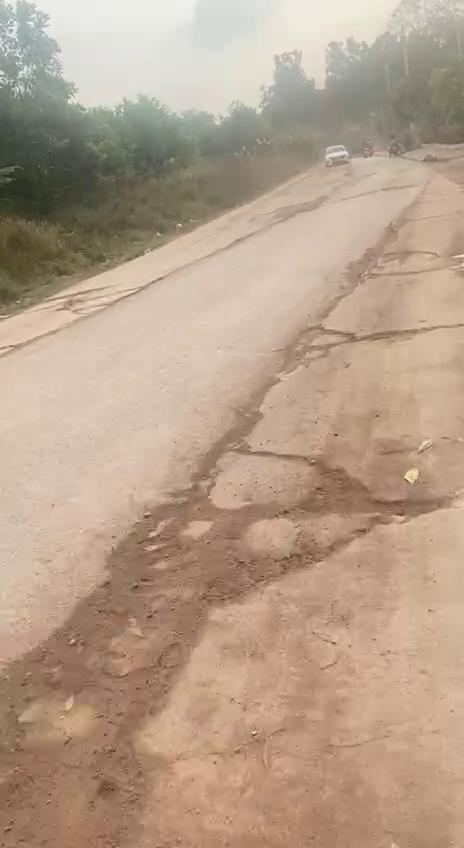pothole: (128, 448, 464, 610)
